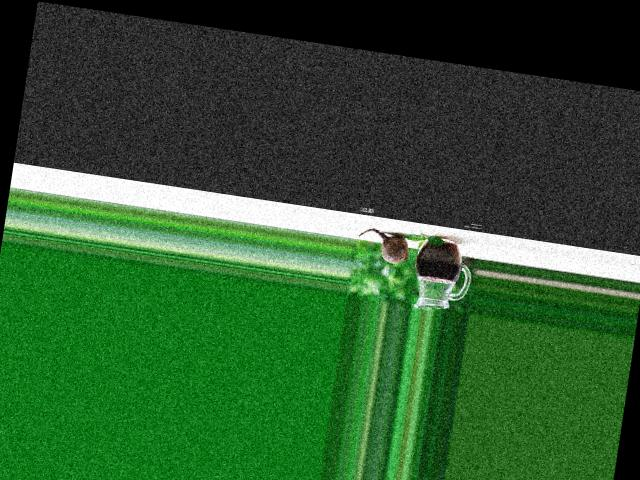beet: (356, 226, 411, 264)
